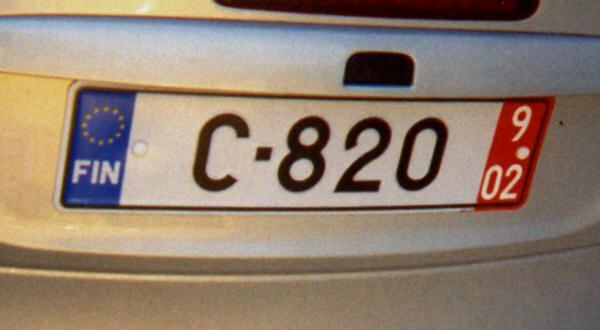license_plate: (55, 82, 558, 212)
